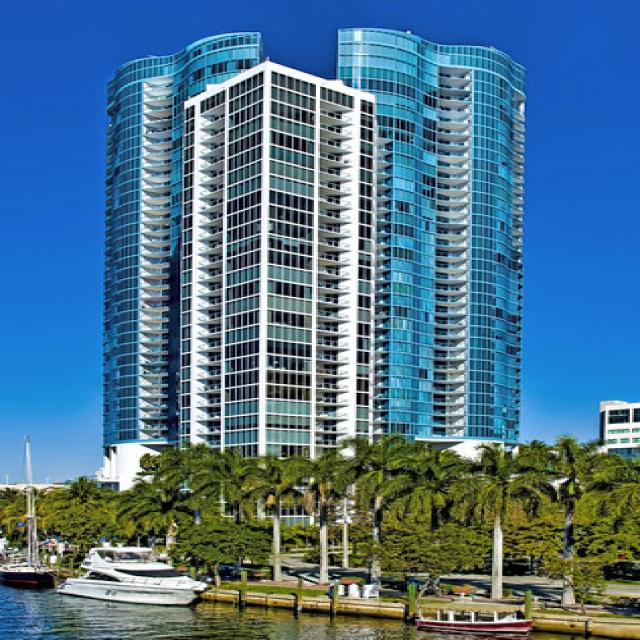Normal_building: (334, 21, 527, 462), (175, 59, 382, 458)
